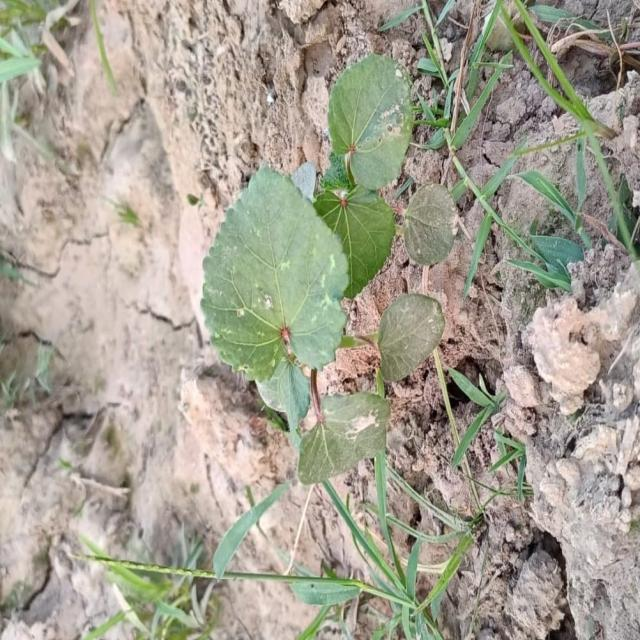plant: (201, 54, 412, 484), (376, 295, 444, 379), (405, 184, 455, 263)
